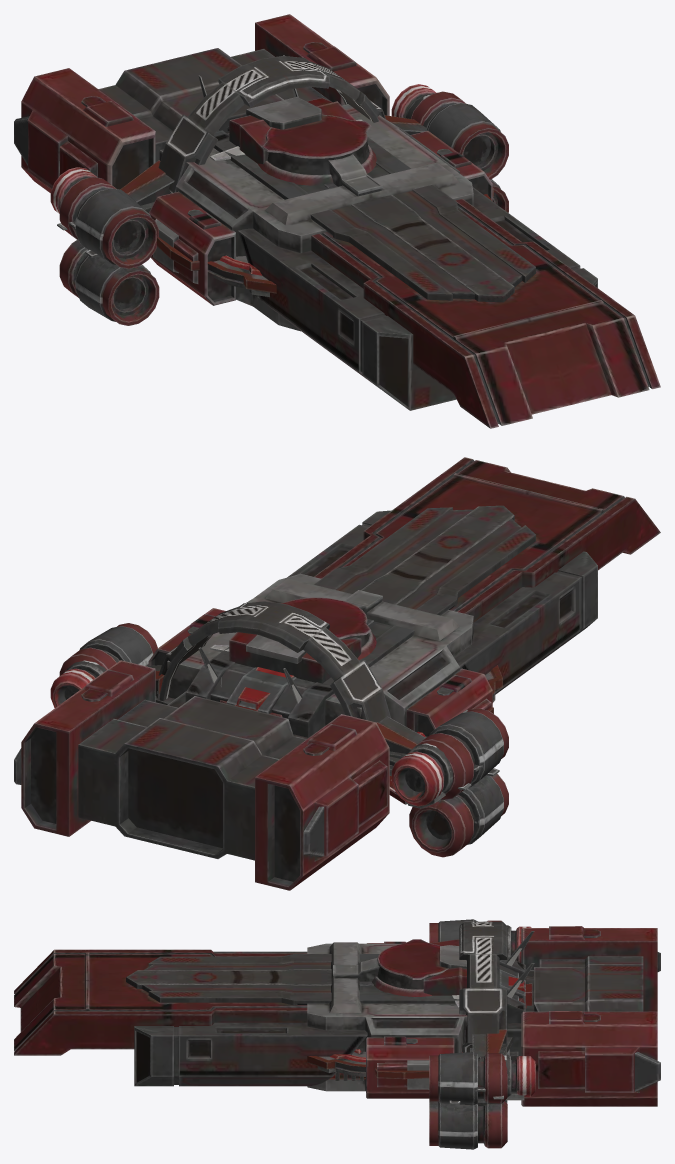
Rendered from voltaris-fleet-ios.glb.
The picture shows the model from 3 angles, top to bottom: view 1: azimuth 30°, elevation 25°; view 2: azimuth 150°, elevation 25°; view 3: azimuth 270°, elevation 25°; orthographic projection. The views are drawn at different scales.
Parts seen in each view (by area): view 1: enemy_33, enemy_29, enemy_31, enemy_43, enemy_10; view 2: enemy_33, enemy_29, enemy_31, enemy_10, enemy_43; view 3: enemy_33, enemy_29, enemy_31, enemy_43, enemy_10, enemy_08.
Part boxes in pixels (bbox=[...]): enemy_33: bbox=[14, 14, 660, 428]; enemy_29: bbox=[59, 91, 508, 325]; enemy_31: bbox=[158, 56, 385, 193]; enemy_43: bbox=[68, 115, 493, 298]; enemy_10: bbox=[50, 84, 445, 213]; enemy_33: bbox=[14, 457, 660, 890]; enemy_29: bbox=[59, 623, 508, 857]; enemy_31: bbox=[156, 601, 390, 722]; enemy_10: bbox=[50, 651, 452, 808]; enemy_43: bbox=[147, 644, 502, 771]; enemy_33: bbox=[14, 926, 660, 1106]; enemy_29: bbox=[429, 919, 532, 1149]; enemy_31: bbox=[459, 921, 507, 1103]; enemy_43: bbox=[307, 976, 525, 1091]; enemy_10: bbox=[478, 925, 535, 1100]; enemy_08: bbox=[493, 931, 534, 1099].
Size of the model in its own units: 10.52 by 5.43 by 18.55.
57 materials, 57 textured.
